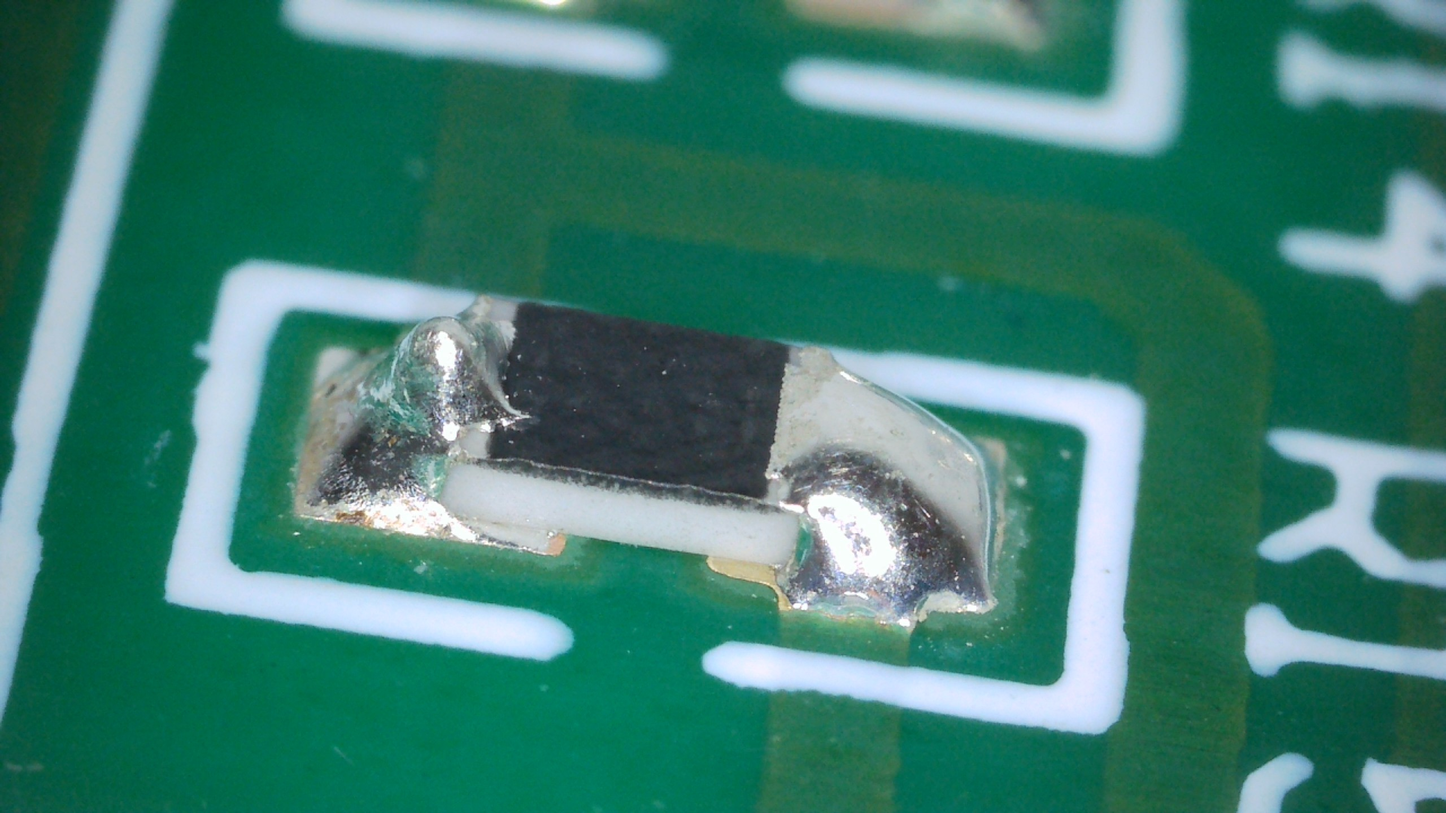NG: (763, 346, 997, 623), (304, 314, 527, 524)
